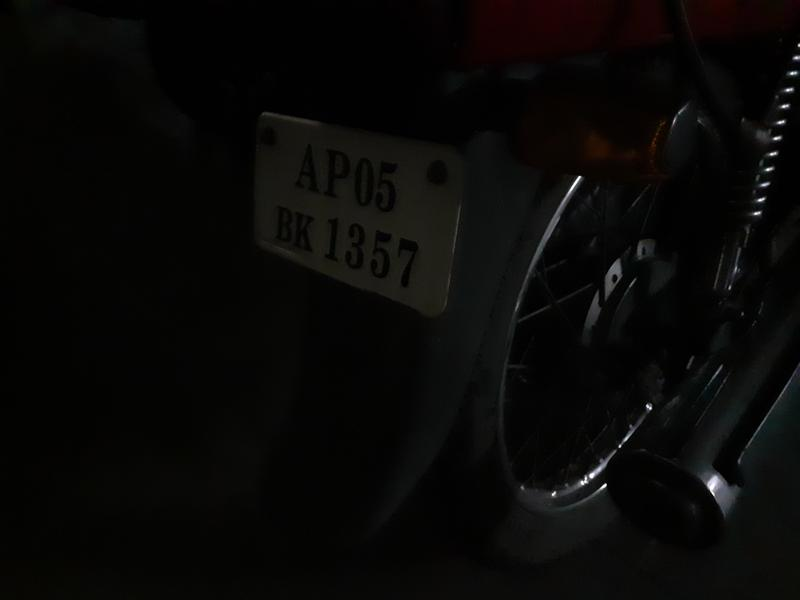numberplate: (246, 111, 458, 309)
